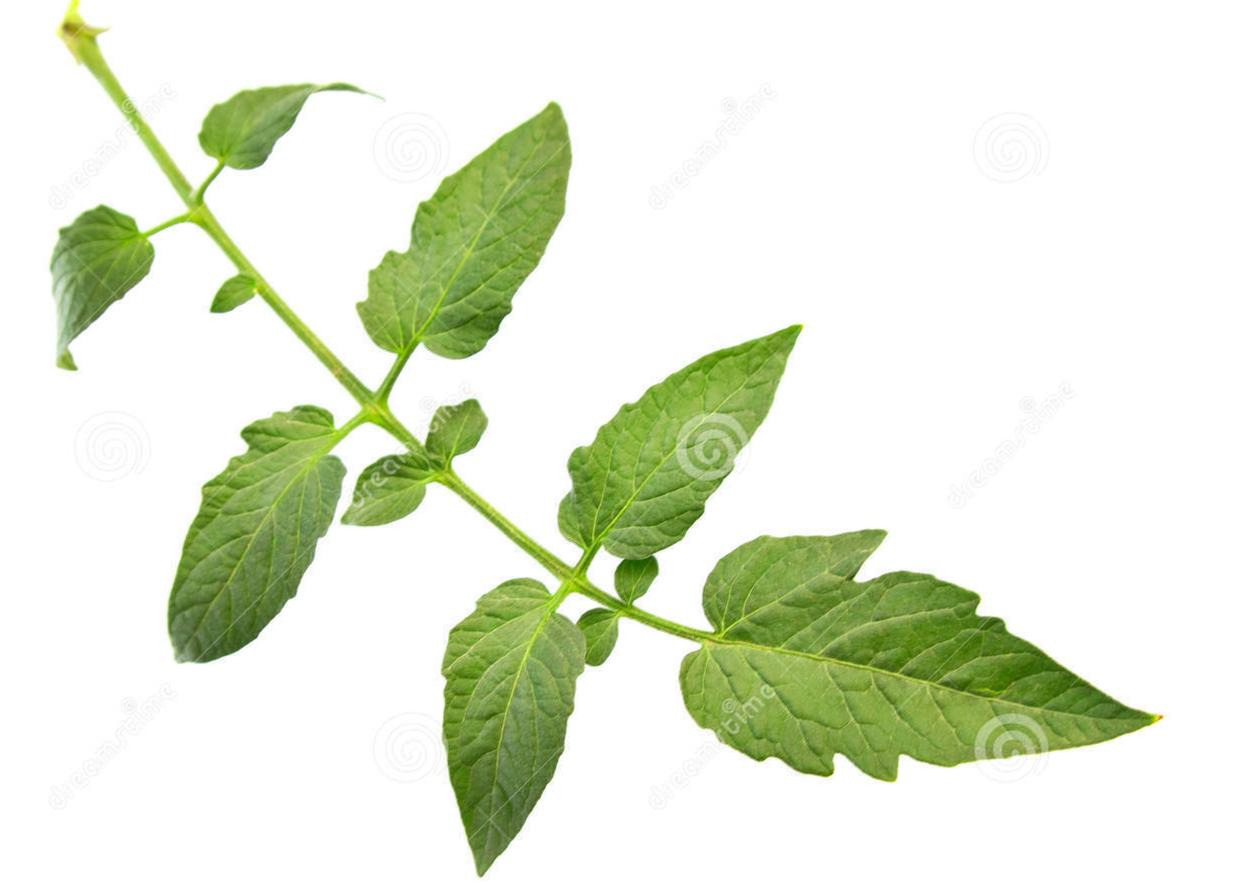Tomato leaf: (694, 505, 1180, 853), (303, 68, 625, 393), (378, 560, 669, 882), (99, 392, 365, 688), (566, 310, 837, 583), (21, 201, 174, 391), (196, 49, 383, 204)
